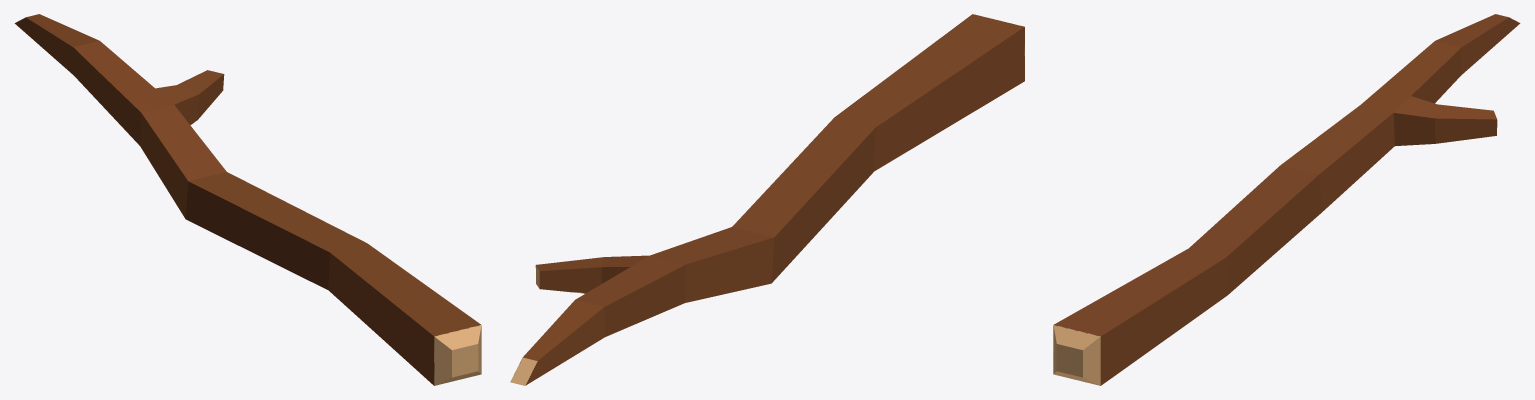
Rendered from Twig.fbx.
3 renders of one model, left to right at view 1: azimuth 30°, elevation 25°; view 2: azimuth 150°, elevation 25°; view 3: azimuth 330°, elevation 25°, orthographic. The views are drawn at different scales.
Parts seen in each view (by area): view 1: Cube; view 2: Cube; view 3: Cube.
Part boxes in pixels (x1=…): Cube: x1=14, y1=14, x2=481, y2=385; Cube: x1=510, y1=14, x2=1024, y2=385; Cube: x1=1053, y1=14, x2=1520, y2=385.
Bounding box in the file's own units: 52.71 × 28.13 × 321.
